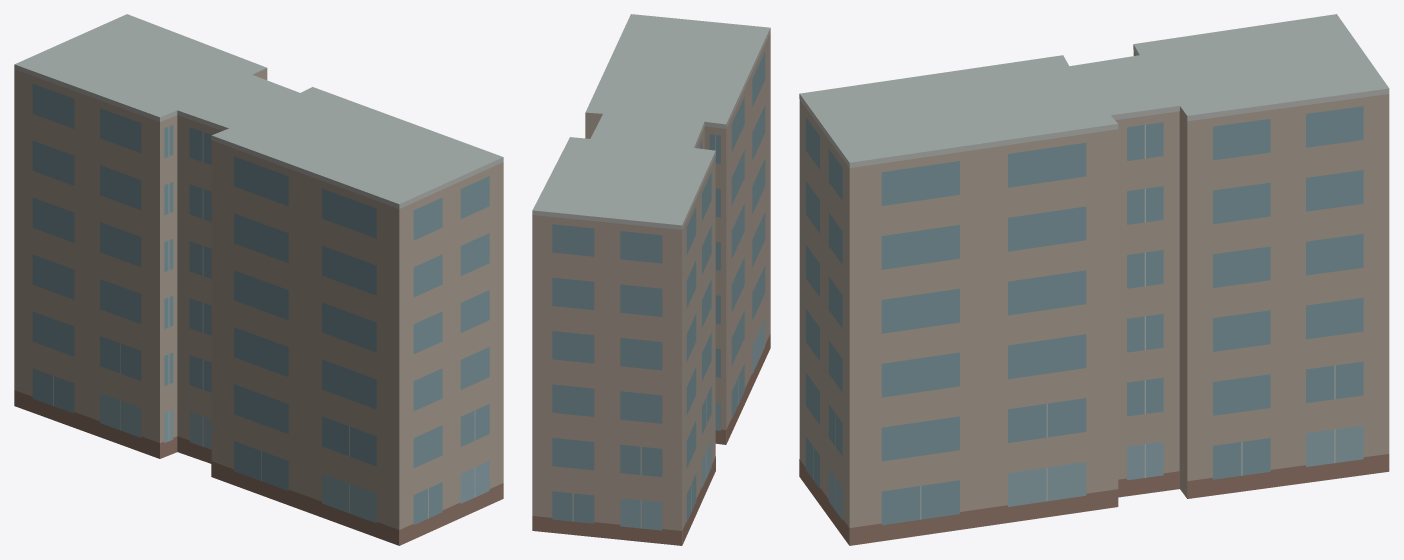
File: survey-upis-32568470.glb
3 views of the same model, side by side, from view 1: azimuth 30°, elevation 25°; view 2: azimuth 150°, elevation 25°; view 3: azimuth 270°, elevation 25° (orthographic). The views are drawn at different scales.
Visible parts, largest first — view 1: survey-upis-32568470.tmp; view 2: survey-upis-32568470.tmp; view 3: survey-upis-32568470.tmp.
Boxes of the visible parts, <box> form: survey-upis-32568470.tmp: <box>14,14,503,545</box>; survey-upis-32568470.tmp: <box>532,14,770,545</box>; survey-upis-32568470.tmp: <box>799,14,1389,545</box>.
Bounding box in the file's own units: 14.46 × 17.35 × 24.22.
